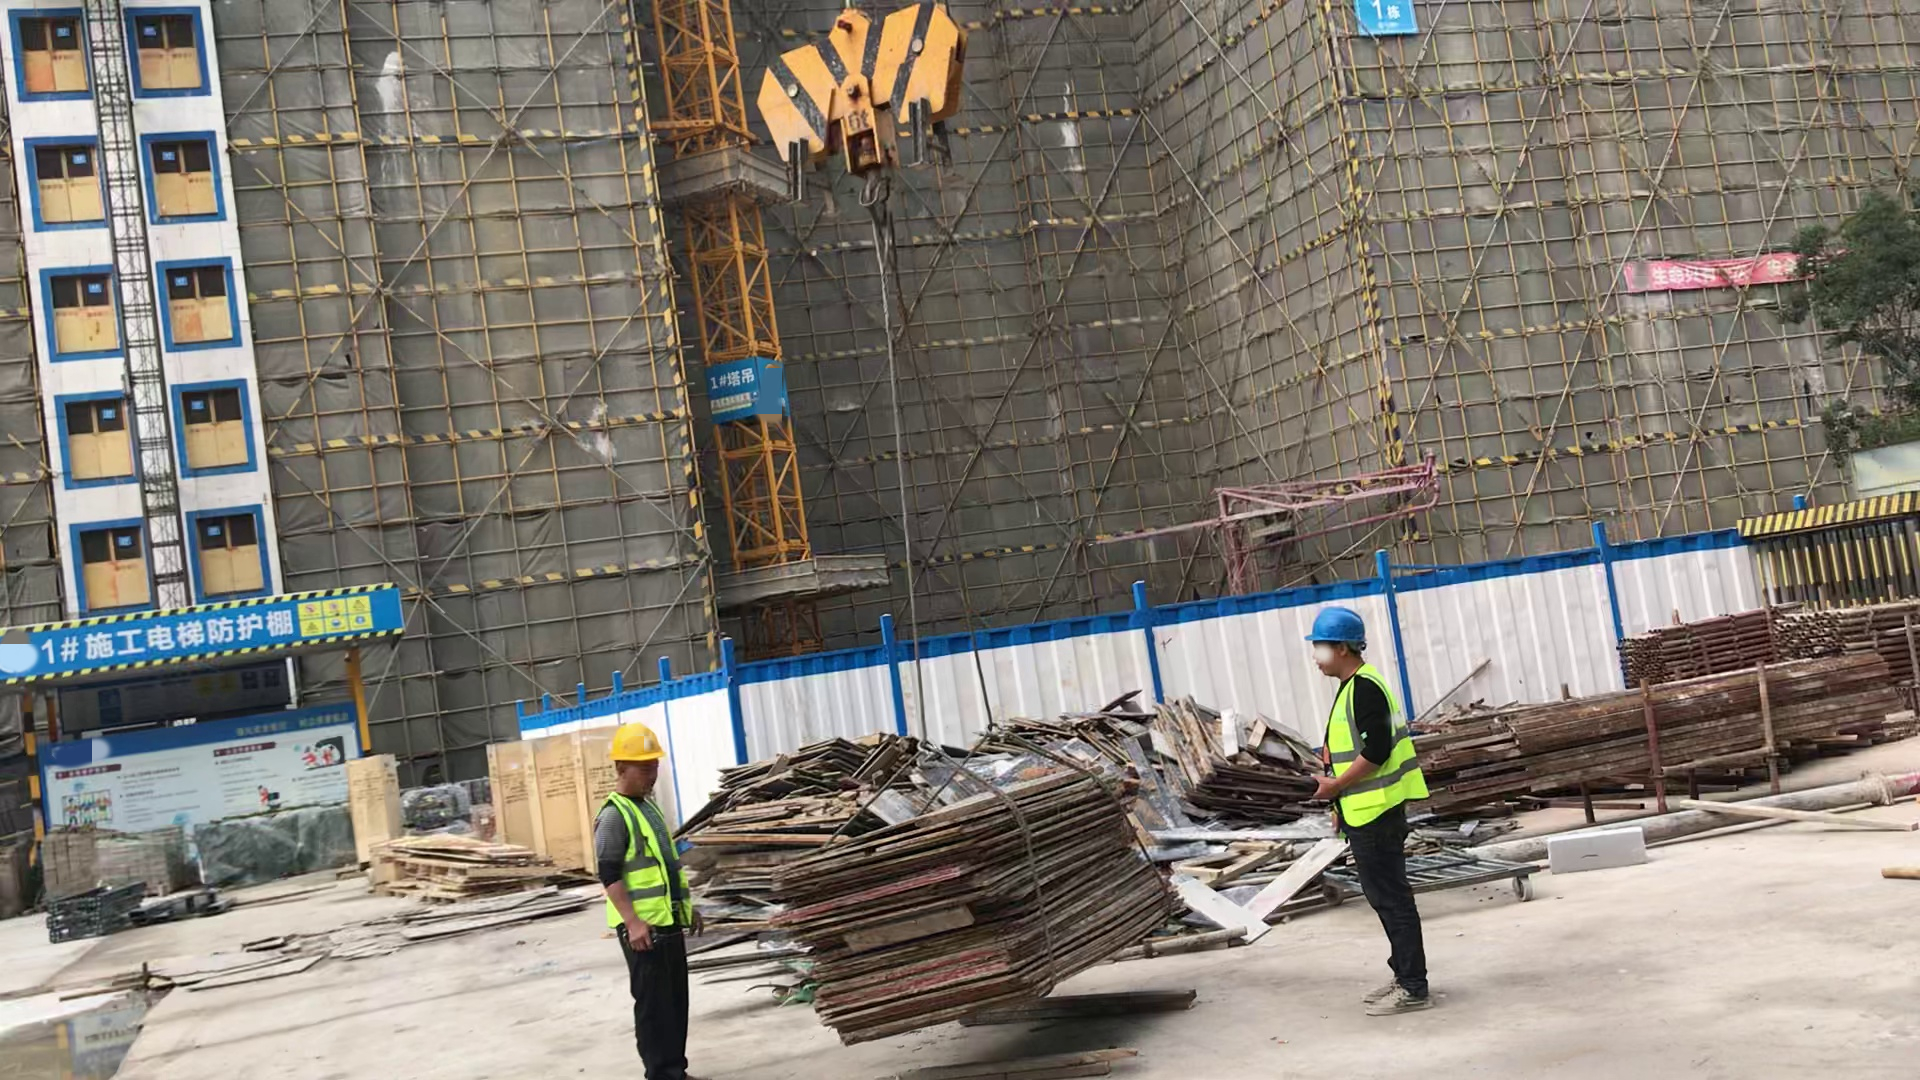board: (773, 765, 1184, 1045)
helmet: (609, 721, 667, 761), (1306, 607, 1365, 642)
hook: (750, 6, 970, 228)
person: (1300, 605, 1449, 1019), (593, 716, 706, 1080)
scaffold: (1614, 601, 1920, 689)
slogan: (1621, 246, 1835, 290), (292, 597, 381, 634), (709, 393, 758, 413)
vest: (1314, 666, 1428, 838), (600, 792, 693, 929)
